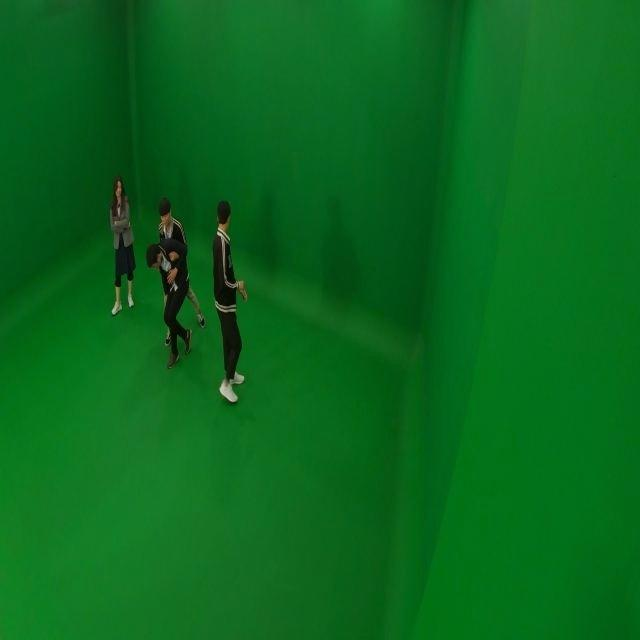non-fight: (146, 197, 207, 346), (207, 195, 250, 404), (144, 238, 193, 372), (110, 176, 138, 316)
